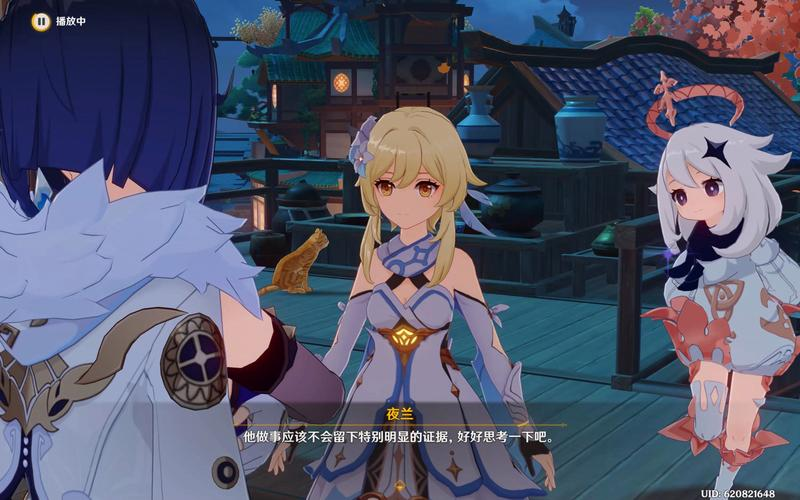夜兰: (1, 3, 348, 500)
